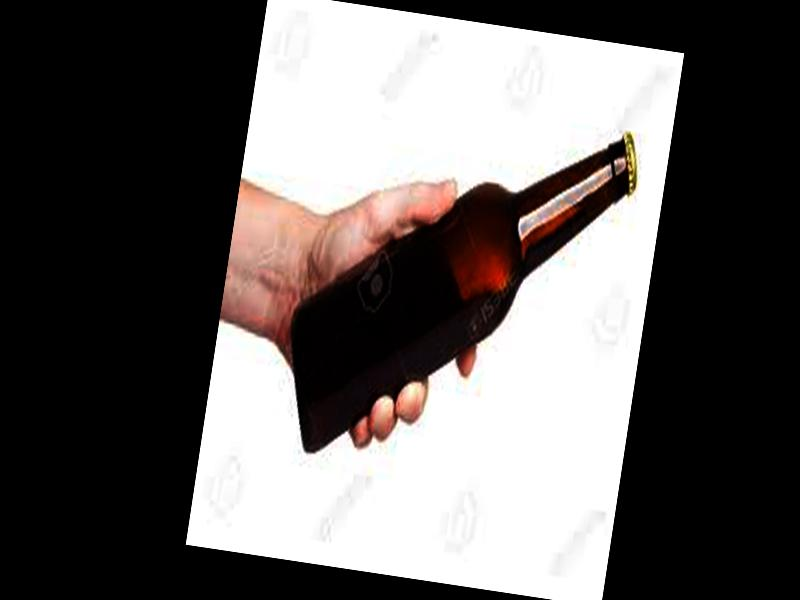Beer: (275, 86, 643, 491)
